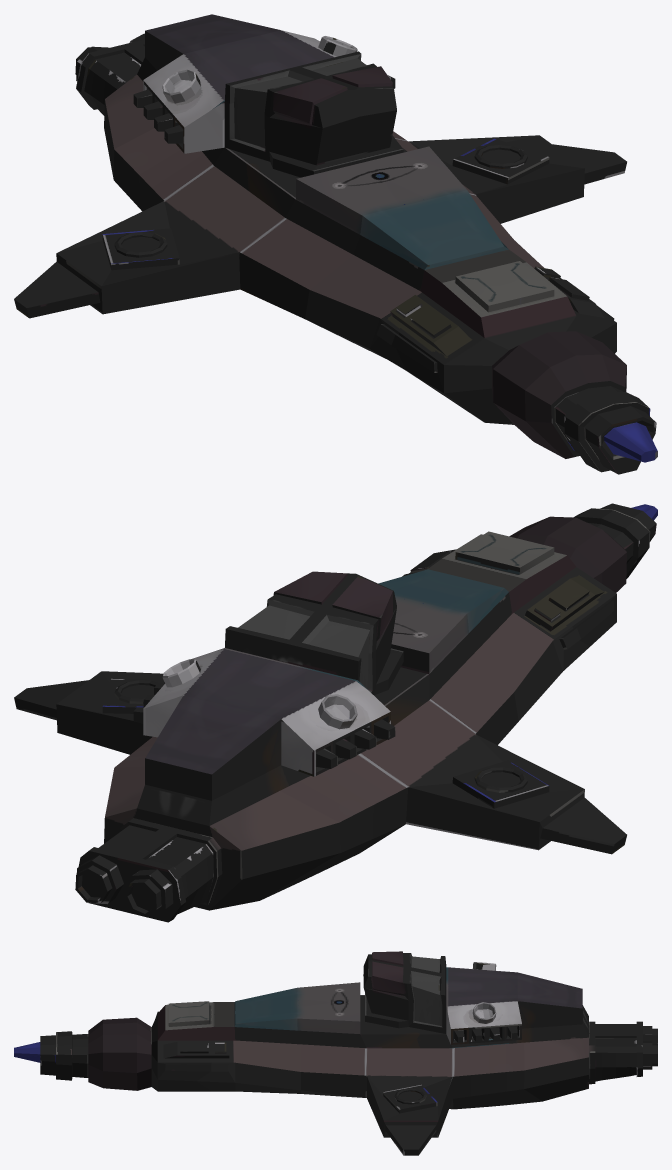
The model's file is Main Ship.glb.
3 renders of one model, top to bottom at view 1: azimuth 30°, elevation 25°; view 2: azimuth 150°, elevation 25°; view 3: azimuth 270°, elevation 25°, orthographic. The views are drawn at different scales.
Visible parts, largest first — view 1: Plane.006; view 2: Plane.006; view 3: Plane.006.
Part boxes in pixels (x1=…): Plane.006: x1=14, y1=14, x2=657, y2=474; Plane.006: x1=14, y1=503, x2=657, y2=922; Plane.006: x1=14, y1=951, x2=657, y2=1155.
Size of the model in its own units: 188 by 64.01 by 288.
Materials: 1 (1 with a texture image).
